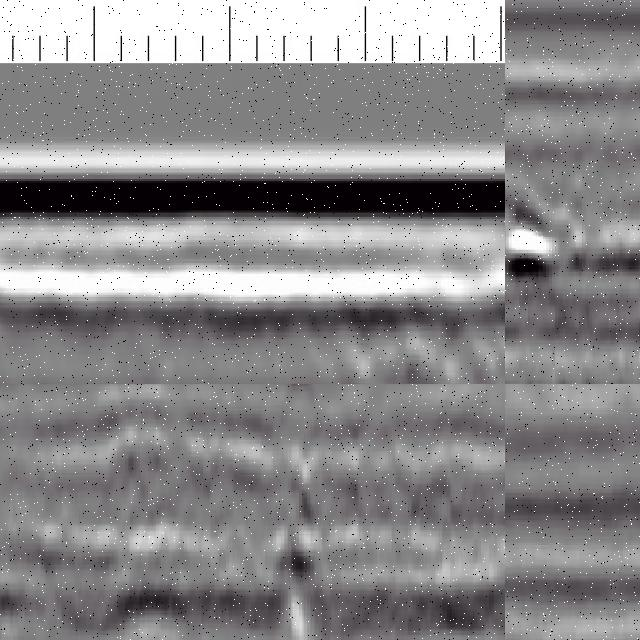crack: (283, 385, 320, 640), (506, 385, 528, 616)
loose: (506, 185, 640, 385), (350, 300, 506, 385)
